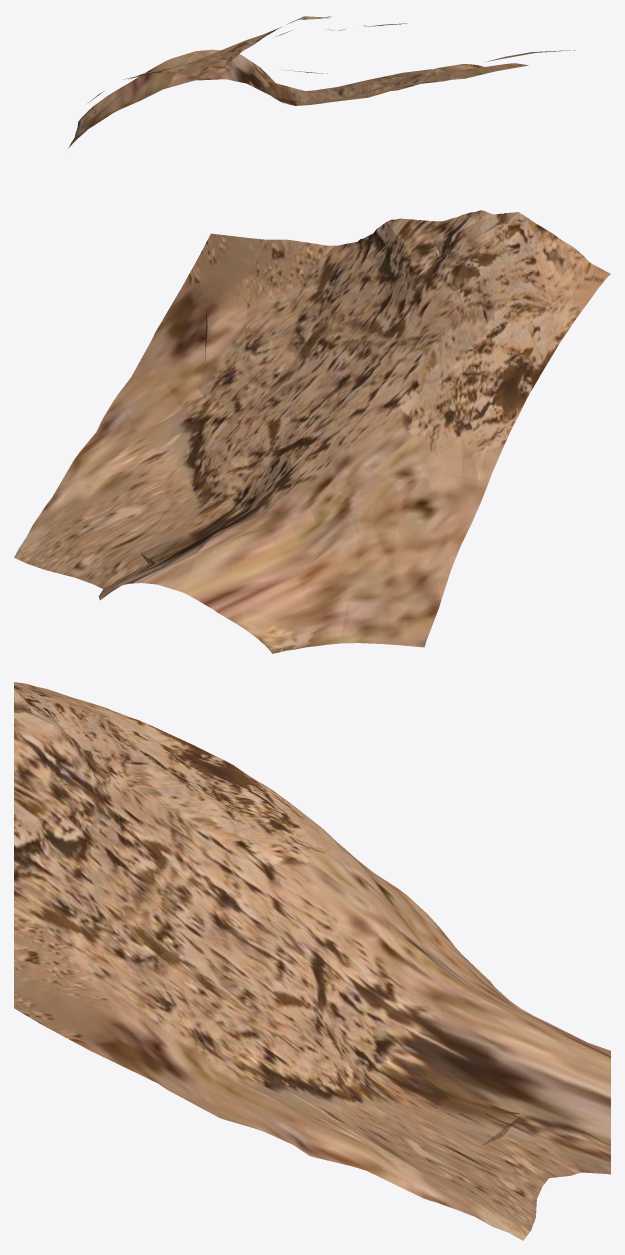
3 renders of one model, top to bottom at view 1: azimuth 30°, elevation 25°; view 2: azimuth 150°, elevation 25°; view 3: azimuth 270°, elevation 25°, orthographic. The views are drawn at different scales.
Size of the model in its own units: 1.04 by 0.69 by 1.04.
3 materials, 3 textured.
